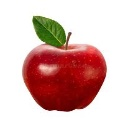apple: (21, 42, 107, 113)
